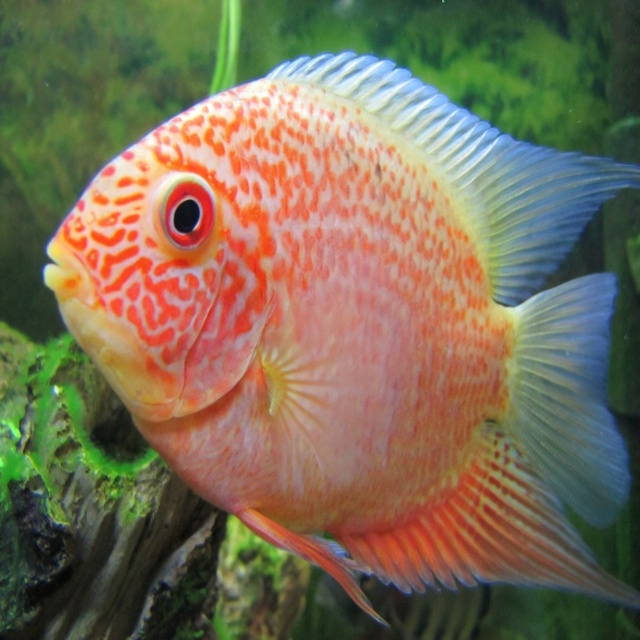Goldfish: (31, 58, 612, 631)
